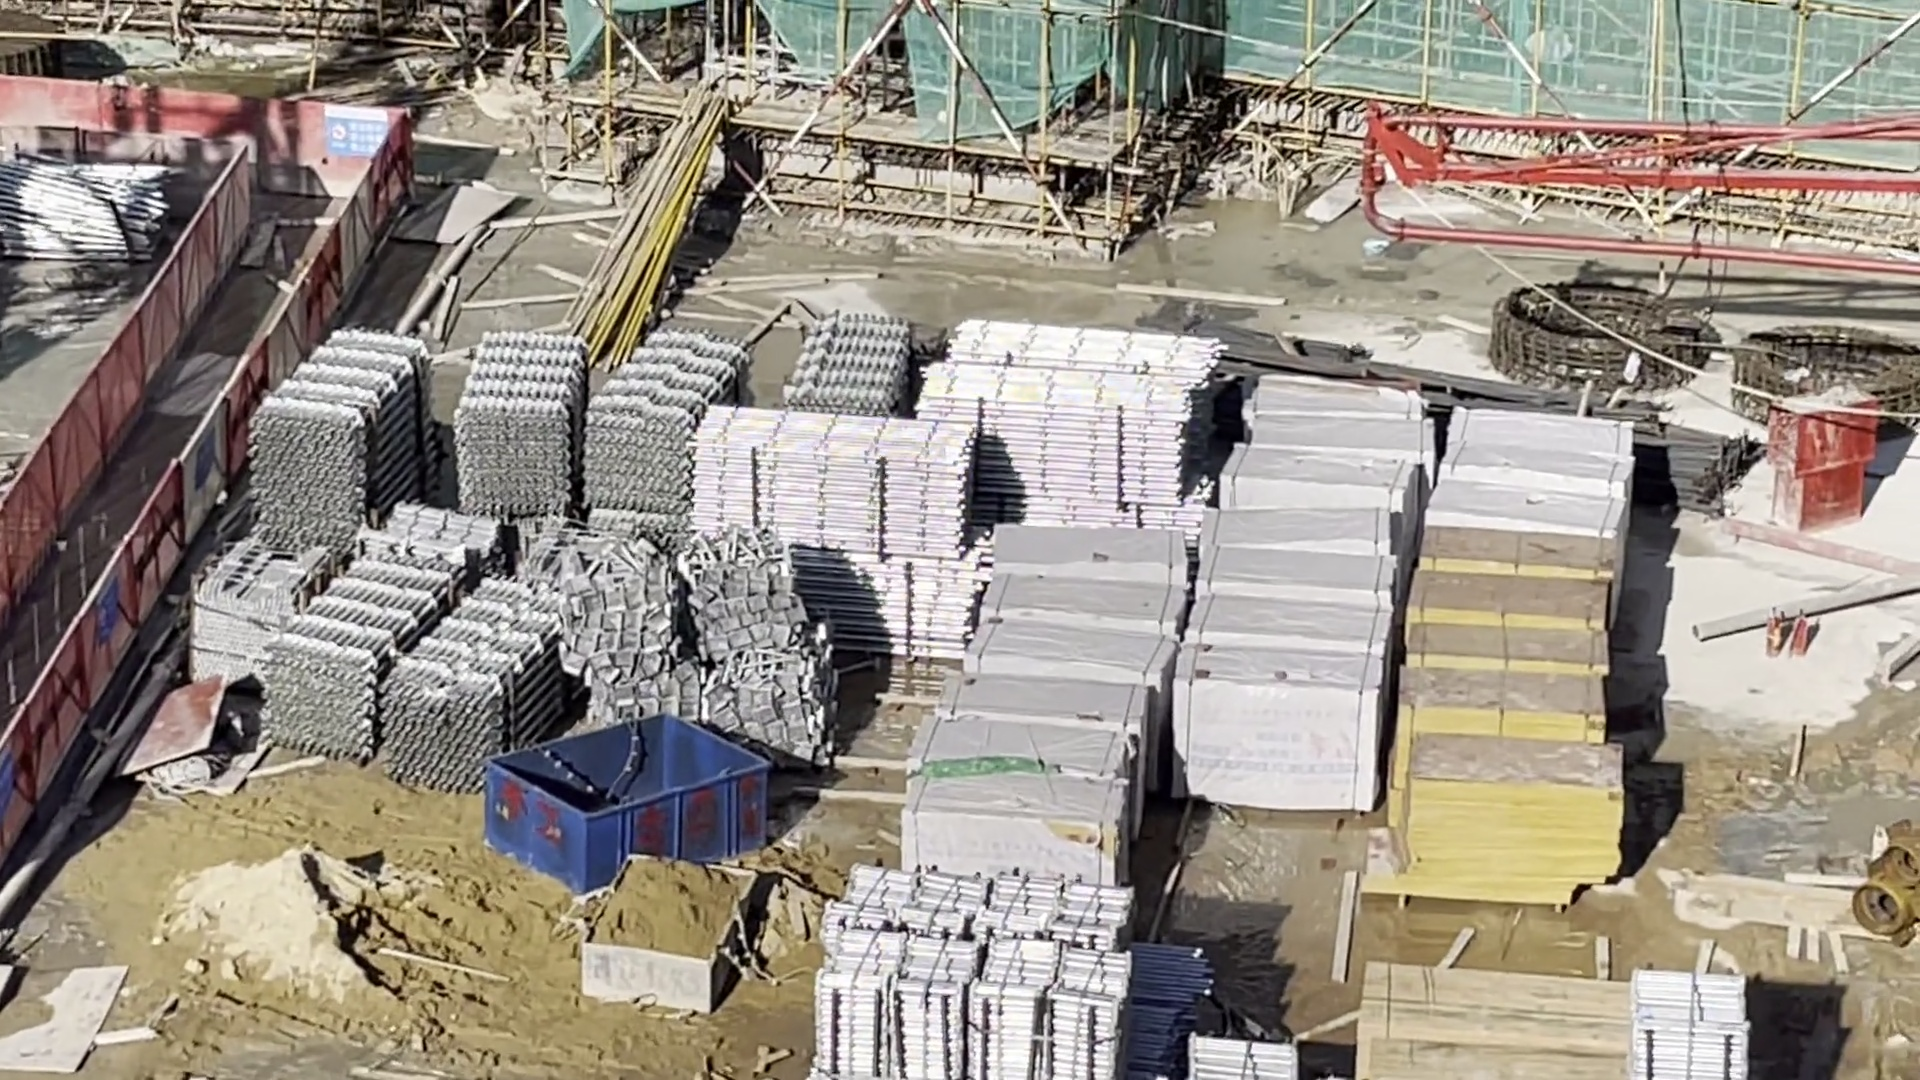board: (1398, 534, 1607, 909), (1352, 961, 1633, 1077)
fence: (5, 153, 386, 874), (1, 76, 315, 187)
hopper: (488, 715, 770, 893), (579, 851, 760, 1015)
rebar: (1224, 353, 1753, 497)
scaffold: (684, 411, 982, 674), (815, 877, 1145, 1072), (278, 578, 563, 795), (934, 318, 1208, 530), (459, 335, 742, 522), (252, 342, 435, 551), (3, 162, 171, 264), (790, 318, 919, 427), (1629, 968, 1742, 1080), (1193, 1029, 1291, 1080)
slogan: (320, 104, 393, 161), (94, 572, 116, 649)
